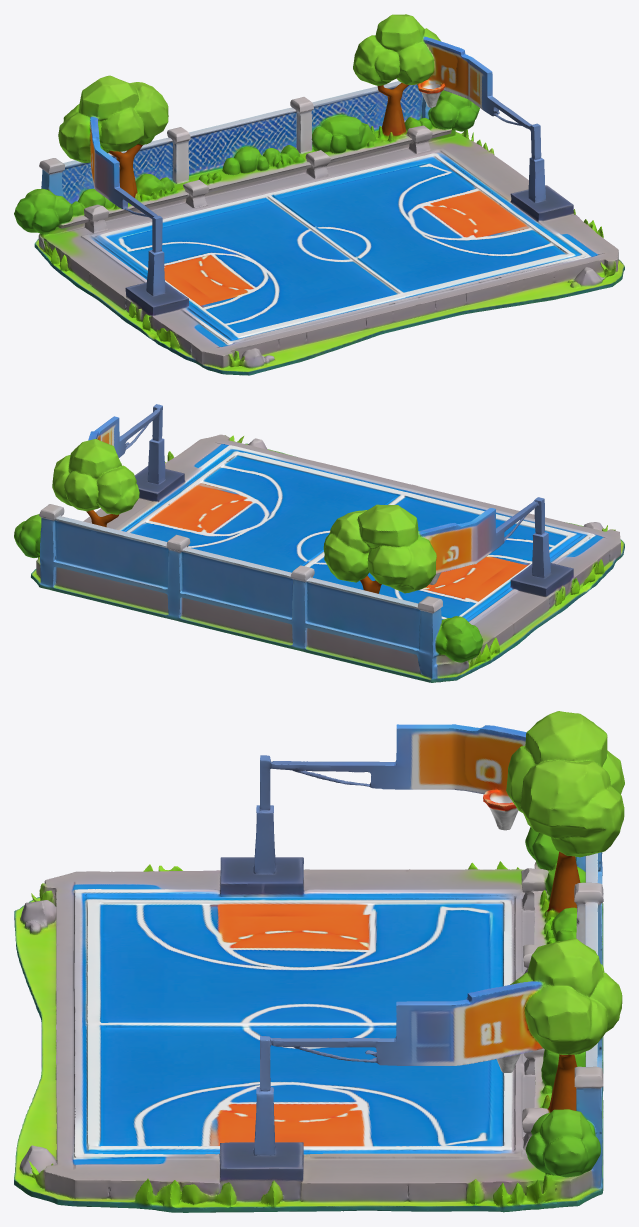
The model's file is base_basic_pbr.fbx.
The picture shows the model from 3 angles, top to bottom: view 1: azimuth 30°, elevation 25°; view 2: azimuth 150°, elevation 25°; view 3: azimuth 270°, elevation 25°; orthographic projection. The views are drawn at different scales.
Visible parts, largest first — view 1: model; view 2: model; view 3: model.
Boxes of the visible parts, x1,y1,x2,y2 form: model: (14, 14, 624, 375); model: (14, 404, 624, 682); model: (14, 711, 624, 1212).
Size of the model in its own units: 186 by 59.1 by 142.
1 material, 1 textured.
